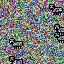sheep: (48, 3, 63, 16), (9, 38, 23, 49), (53, 24, 64, 36), (9, 56, 23, 64), (54, 32, 64, 42)
